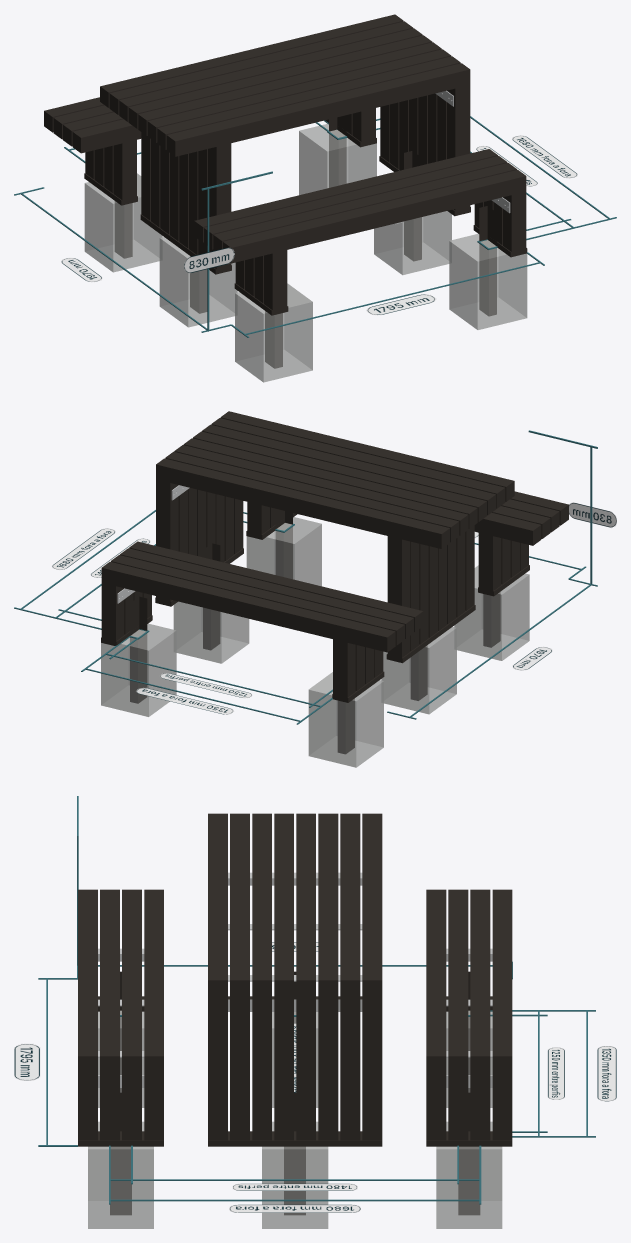
Rendered from conjunto-4a.glb.
3 renders of one model, top to bottom at view 1: azimuth 30°, elevation 25°; view 2: azimuth 150°, elevation 25°; view 3: azimuth 270°, elevation 25°, orthographic. The views are drawn at different scales.
Visible parts, largest first — view 1: Geo0, EnBetao, EnPerfil, CL, FL, CHn, FT3, CWn; view 2: Geo0, EnBetao, EnPerfil, FL, CL, FT1, FT3, CHn, FT0; view 3: Geo0, EnBetao, EnPerfil, FL, Geo1, FT3, FT1, CL, FT2, CWn, FT0.
Part boxes in pixels (box(x1,y1,x2,y2)): Geo0: box(44, 14, 527, 315); EnBetao: box(84, 124, 527, 382); EnPerfil: box(115, 134, 496, 368); CL: box(14, 171, 544, 337); FL: box(64, 116, 616, 241); CHn: box(184, 247, 234, 273); FT3: box(512, 135, 577, 178); CWn: box(366, 294, 435, 315); Geo0: box(101, 411, 568, 702); EnBetao: box(101, 517, 529, 767); EnPerfil: box(130, 527, 500, 753); FL: box(14, 510, 332, 724); CL: box(387, 430, 597, 719); FT1: box(136, 687, 233, 714); FT3: box(52, 528, 115, 569); CHn: box(569, 502, 616, 527); FT0: box(160, 673, 251, 697); Geo0: box(78, 813, 512, 1146); EnBetao: box(88, 1011, 502, 1228); EnPerfil: box(110, 1017, 479, 1214); FL: box(109, 1010, 595, 1204); Geo1: box(98, 872, 492, 1087); FT3: box(229, 1204, 360, 1212); FT1: box(597, 1046, 616, 1101); CL: box(38, 796, 512, 1146); FT2: box(232, 1183, 357, 1190); CWn: box(14, 1043, 39, 1080); FT0: box(548, 1047, 564, 1099).
Bounding box in the file's own units: 2.91 × 1.23 × 2.73.
Materials: 13 (8 with a texture image).
